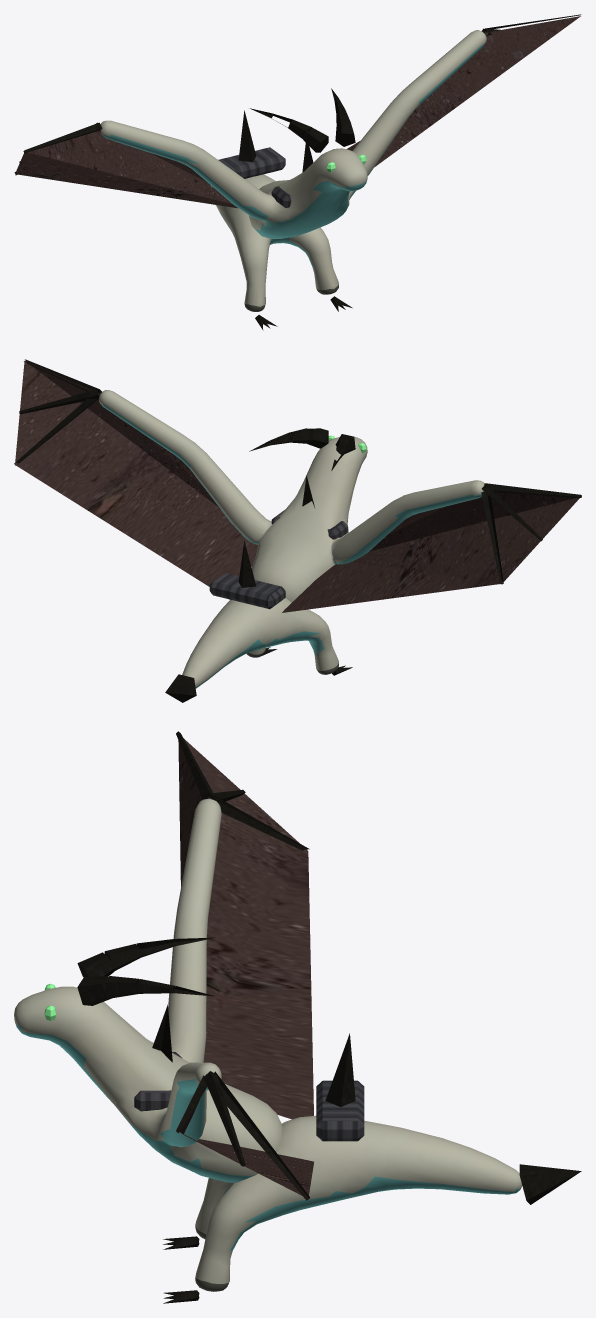
The model's file is mon_sp_vault_queen.glb.
3 views of the same model, one above another, from view 1: azimuth 30°, elevation 25°; view 2: azimuth 150°, elevation 25°; view 3: azimuth 270°, elevation 25° (orthographic). The views are drawn at different scales.
Parts seen in each view (by area): view 1: mon_sp_vault_queen; view 2: mon_sp_vault_queen; view 3: mon_sp_vault_queen.
Boxes of the visible parts, x1,y1,x2,y2 form: mon_sp_vault_queen: (14,14,581,330); mon_sp_vault_queen: (14,359,581,702); mon_sp_vault_queen: (14,731,581,1303).
Size of the model in its own units: 5.66 by 2.28 by 3.41.
7 materials, 7 textured.
